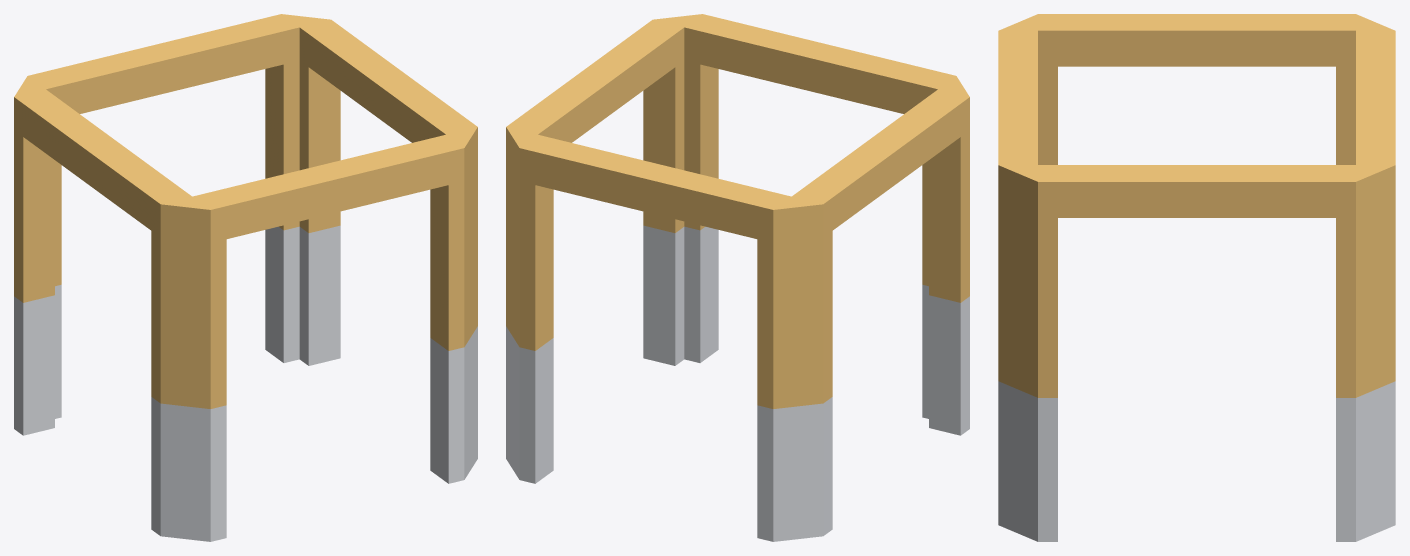
The model's file is structure.glb.
3 renders of one model, left to right at view 1: azimuth 30°, elevation 25°; view 2: azimuth 150°, elevation 25°; view 3: azimuth 270°, elevation 25°, orthographic. The views are drawn at different scales.
Parts seen in each view (by area): view 1: structure; view 2: structure; view 3: structure.
Part boxes in pixels (x1,y1,x2,y2): structure: (14, 14, 477, 541); structure: (506, 14, 969, 541); structure: (998, 14, 1395, 541).
Bounding box in the file's own units: 1 × 1 × 1.
1 material, 1 textured.
